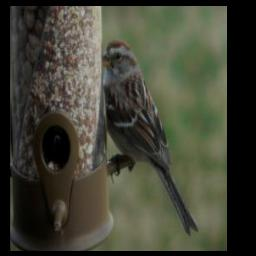Sparrow: (103, 37, 199, 236)
